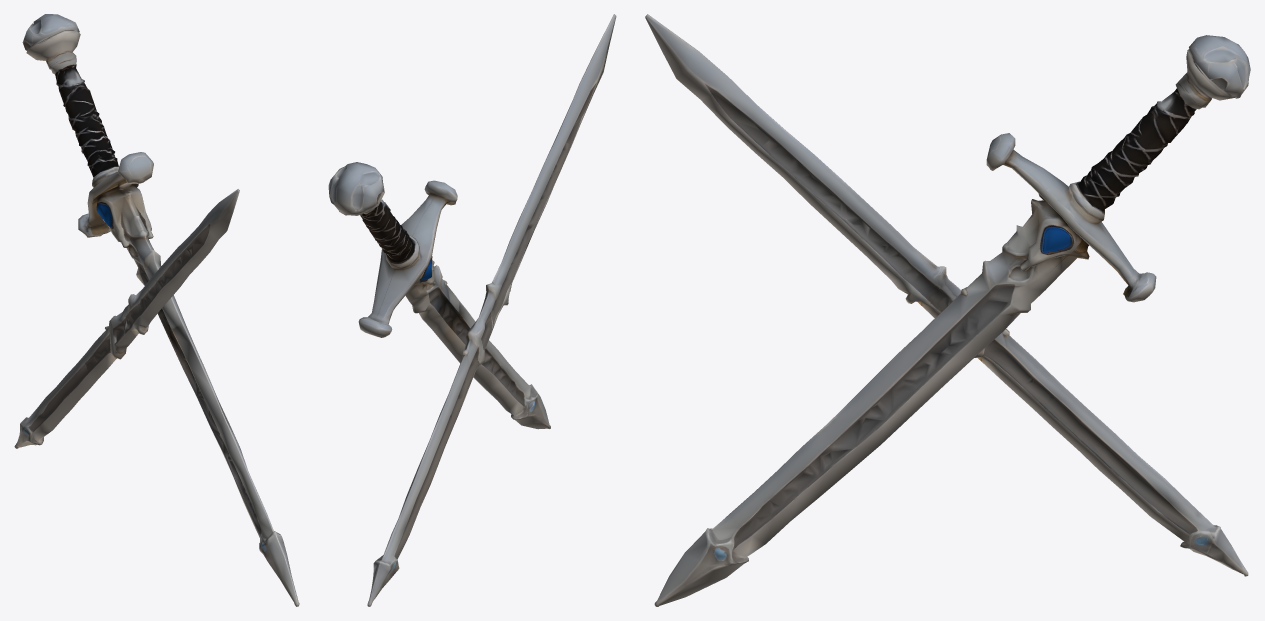
The picture shows the model from 3 angles, left to right: view 1: azimuth 30°, elevation 25°; view 2: azimuth 150°, elevation 25°; view 3: azimuth 270°, elevation 25°; orthographic projection. The views are drawn at different scales.
Parts seen in each view (by area): view 1: tripo_node_bfef514b-66f5-46c4-b461-4ee49d66ec00; view 2: tripo_node_bfef514b-66f5-46c4-b461-4ee49d66ec00; view 3: tripo_node_bfef514b-66f5-46c4-b461-4ee49d66ec00.
Part boxes in pixels (left/top/right/bottom): tripo_node_bfef514b-66f5-46c4-b461-4ee49d66ec00: left=14, top=14, right=299, bottom=606; tripo_node_bfef514b-66f5-46c4-b461-4ee49d66ec00: left=328, top=14, right=616, bottom=606; tripo_node_bfef514b-66f5-46c4-b461-4ee49d66ec00: left=645, top=14, right=1250, bottom=606.
Bounding box in the file's own units: 0.184 × 1 × 0.9922.
1 material, 1 textured.
